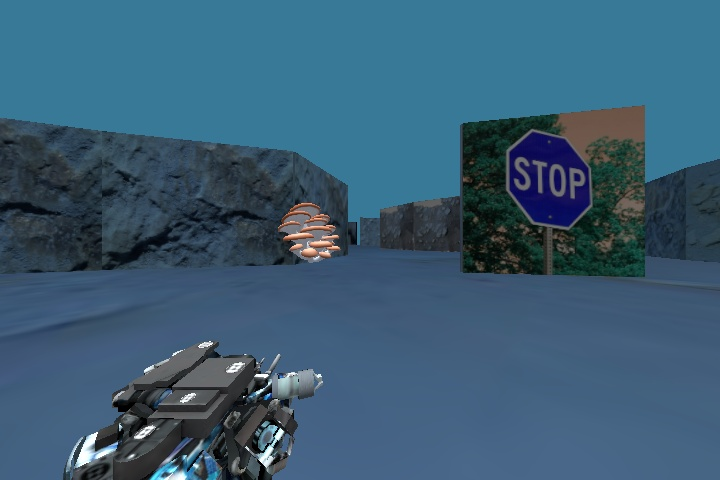stop_sign: (494, 116, 610, 243)
white_sphere: (267, 189, 343, 266)
